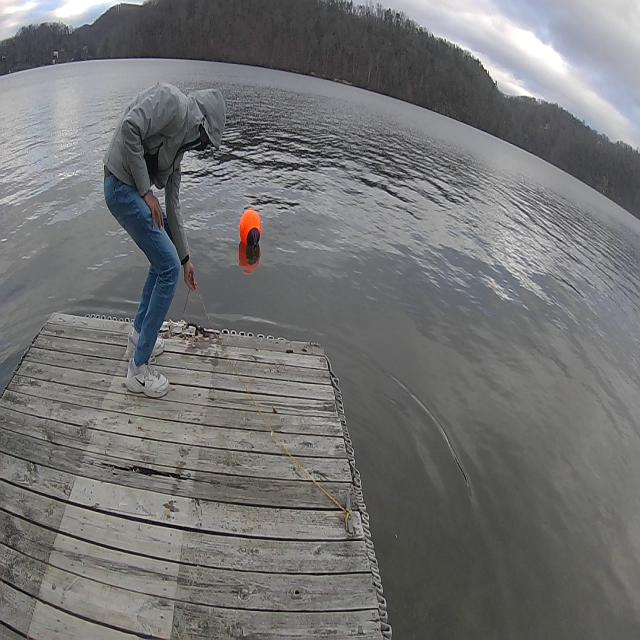Buoy: (237, 204, 265, 258)
